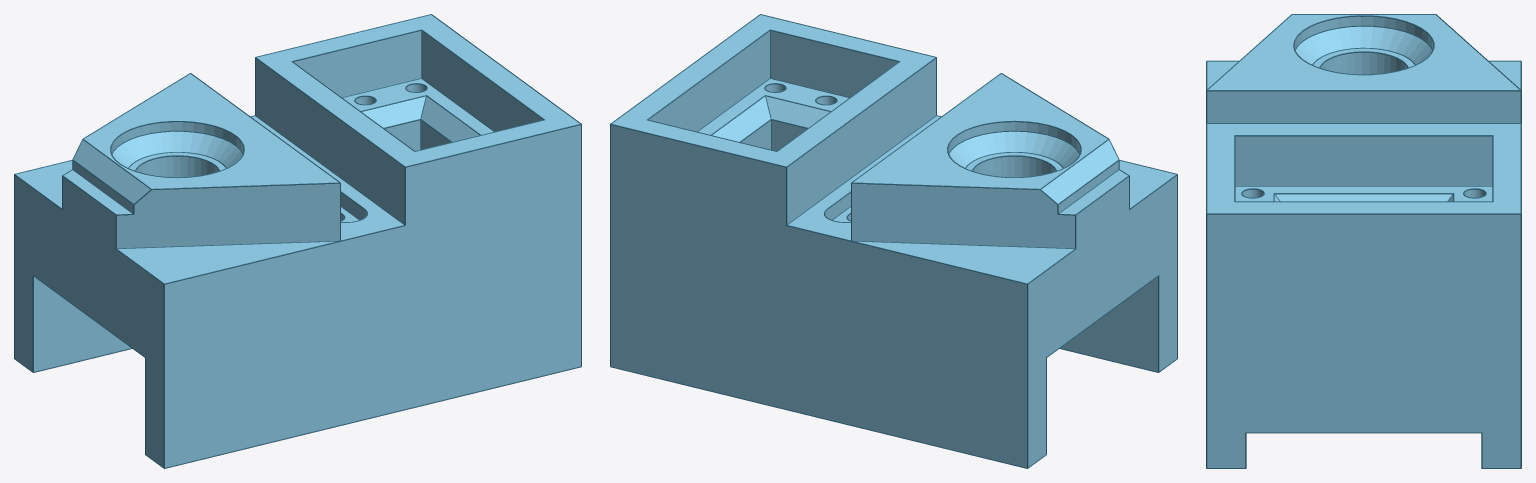
Rendered from model_full_cad_v2.glb.
The picture shows the model from 3 angles, left to right: view 1: azimuth 30°, elevation 25°; view 2: azimuth 150°, elevation 25°; view 3: azimuth 270°, elevation 25°; orthographic projection. The views are drawn at different scales.
Visible parts, largest first — view 1: Full_model_original_STL, CAD_feature_edges; view 2: Full_model_original_STL, CAD_feature_edges; view 3: Full_model_original_STL, CAD_feature_edges.
Boxes of the visible parts, <box> form: Full_model_original_STL: <box>15,15,580,467</box>; CAD_feature_edges: <box>14,14,581,468</box>; Full_model_original_STL: <box>611,15,1176,467</box>; CAD_feature_edges: <box>610,14,1177,468</box>; Full_model_original_STL: <box>1207,15,1520,467</box>; CAD_feature_edges: <box>1206,14,1521,468</box>.
Bounding box in the file's own units: 90.23 × 50.2 × 56.23.
